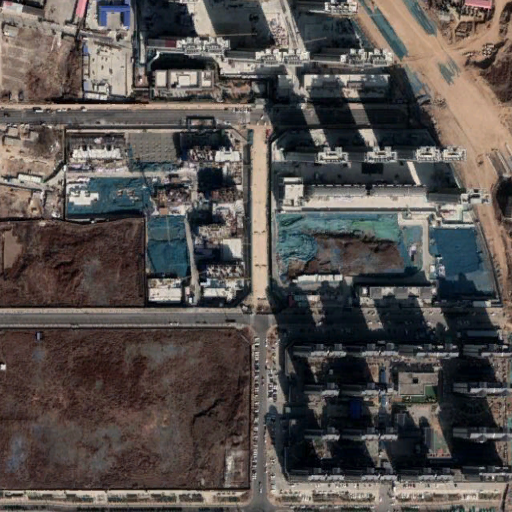cw: (272, 208, 500, 302), (66, 178, 154, 216), (147, 216, 189, 277)
